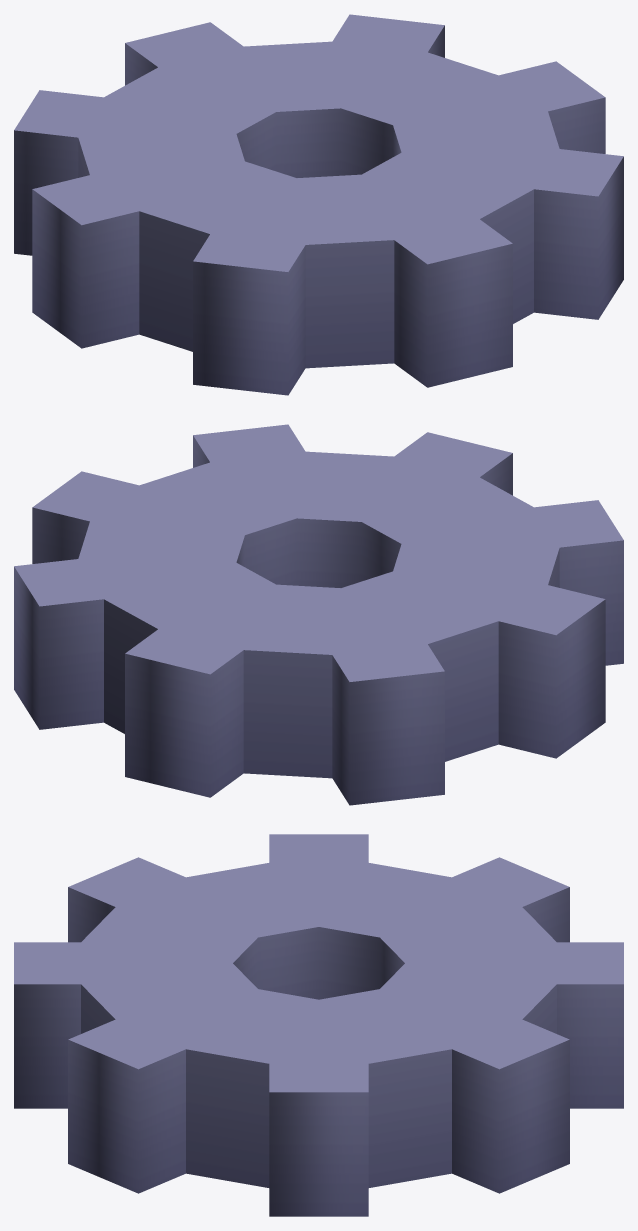
The model's file is cog-a.glb.
The picture shows the model from 3 angles, top to bottom: view 1: azimuth 30°, elevation 25°; view 2: azimuth 150°, elevation 25°; view 3: azimuth 270°, elevation 25°; orthographic projection.
Parts seen in each view (by area): view 1: cog-a; view 2: cog-a; view 3: cog-a.
Part boxes in pixels (x1,y1,x2,y2): cog-a: [14, 14, 623, 395]; cog-a: [14, 424, 623, 805]; cog-a: [14, 834, 623, 1216].
Size of the model in its own units: 1 by 0.225 by 1.
Materials: 1 (1 with a texture image).
